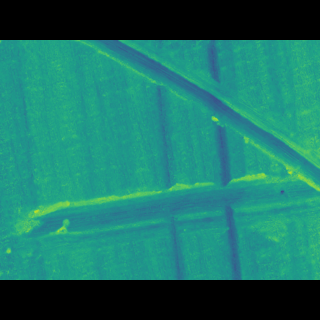Loch: (69, 69, 320, 185), (7, 169, 319, 235)
